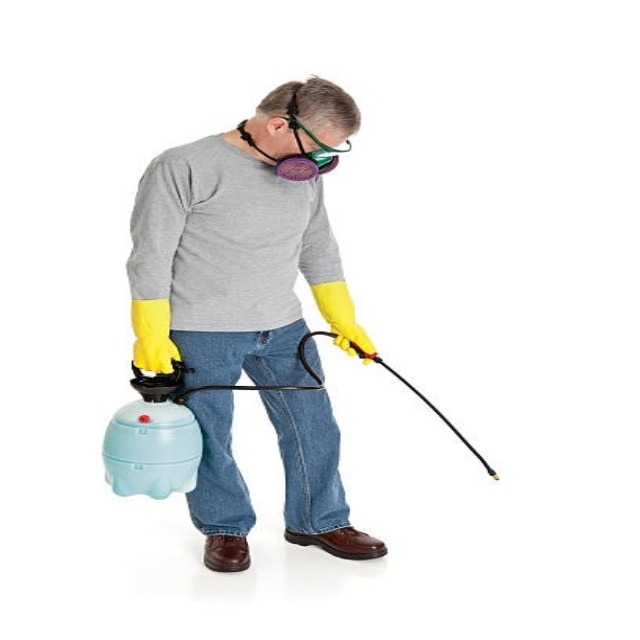Gafas: (287, 115, 352, 158)
Guantes: (311, 281, 376, 364), (130, 299, 183, 376)
Mascara: (268, 154, 347, 182)
